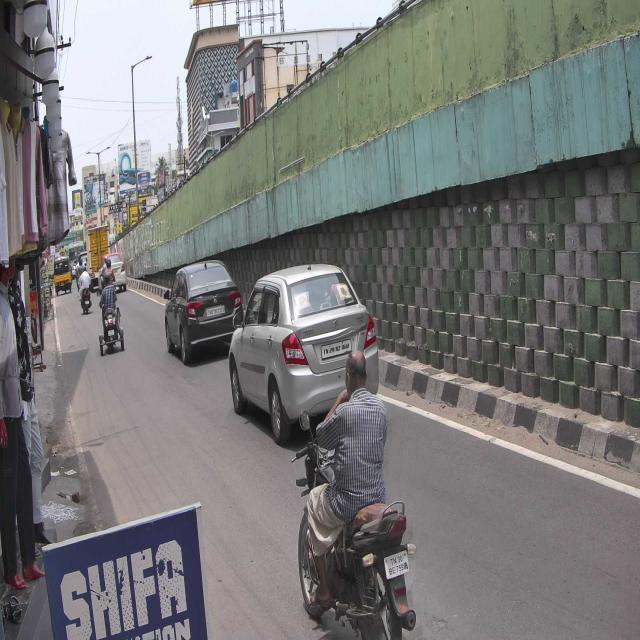single_rider: (294, 348, 416, 640)
